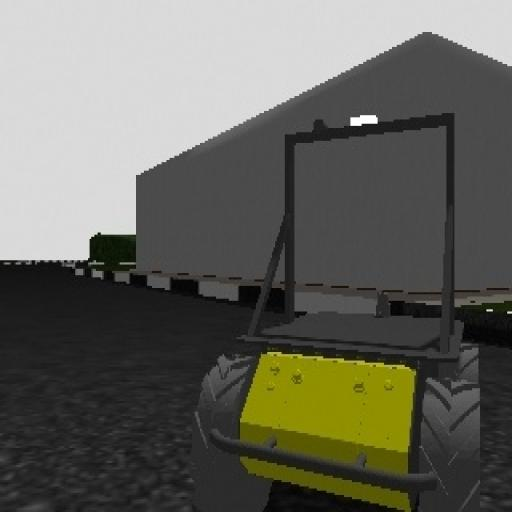huskya200: (156, 111, 486, 512)
